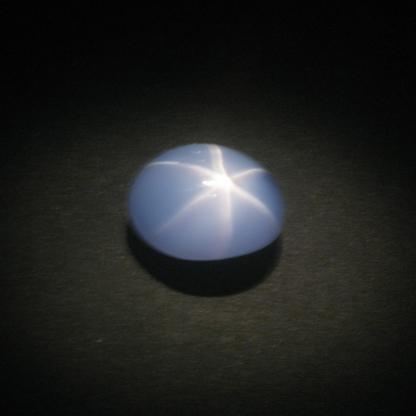Ball: (131, 142, 283, 262)
